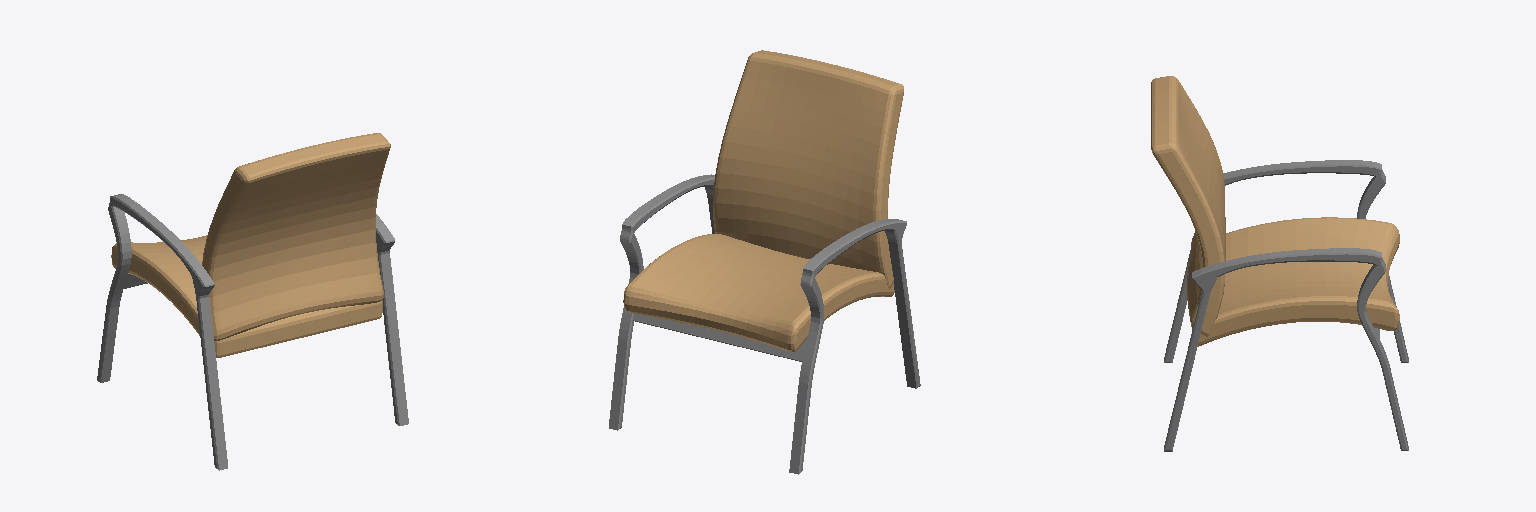
The model's file is chair.obj.
The picture shows the model from 3 angles: view 1: azimuth 30°, elevation 25°; view 2: azimuth 150°, elevation 25°; view 3: azimuth 270°, elevation 25°; orthographic projection.
Visible parts, largest first — view 1: ChamferBox02, ChamferBox01, Line01, Line02; view 2: ChamferBox02, ChamferBox01, Line01, Line02, ChamferBox03; view 3: ChamferBox01, ChamferBox02, Line02, Line01.
Part boxes in pixels (left/top/right/bottom): ChamferBox02: left=202, top=133, right=390, bottom=340; ChamferBox01: left=111, top=235, right=382, bottom=357; Line01: left=97, top=194, right=227, bottom=470; Line02: left=376, top=214, right=408, bottom=425; ChamferBox02: left=713, top=50, right=903, bottom=289; ChamferBox01: left=623, top=234, right=894, bottom=351; Line01: left=789, top=219, right=920, bottom=474; Line02: left=609, top=174, right=714, bottom=430; ChamferBox03: left=633, top=314, right=806, bottom=361; ChamferBox01: left=1192, top=217, right=1399, bottom=346; ChamferBox02: left=1151, top=76, right=1225, bottom=336; Line02: left=1164, top=248, right=1408, bottom=451; Line01: left=1164, top=160, right=1408, bottom=362.
Size of the model in its own units: 257 by 383 by 299.